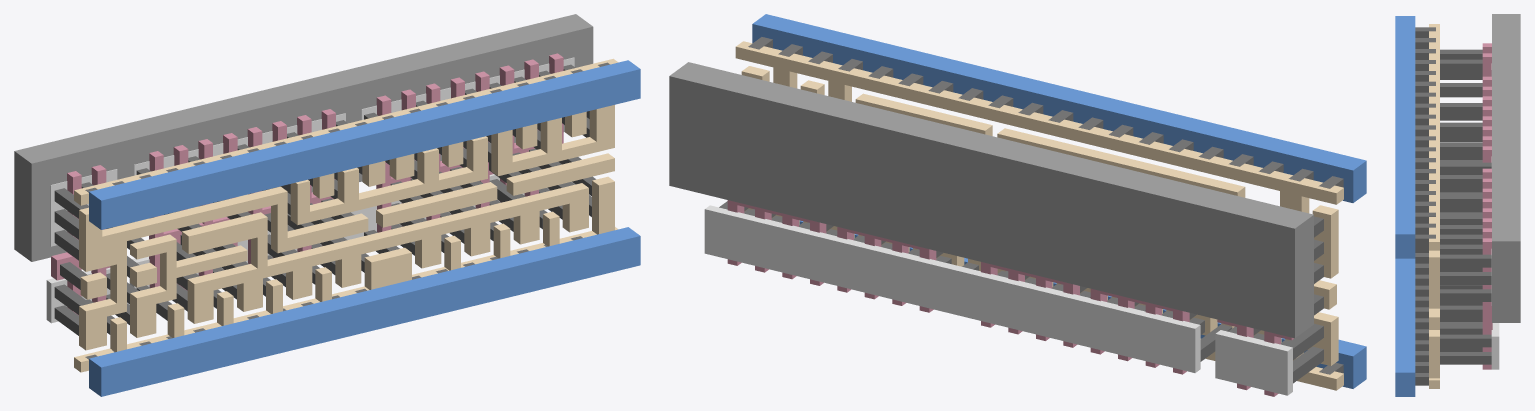
Rendered from sky130_fd_sc_hd__nor4bb_4.gds.gltf.
3 views of the same model, side by side, from view 1: azimuth 30°, elevation 25°; view 2: azimuth 150°, elevation 25°; view 3: azimuth 270°, elevation 25° (orthographic). The views are drawn at different scales.
Visible parts, largest first — view 1: sky130_fd_sc_hd__nor4bb_4_li1, sky130_fd_sc_hd__nor4bb_4_met1, sky130_fd_sc_hd__nor4bb_4_nwell, sky130_fd_sc_hd__nor4bb_4_licon, sky130_fd_sc_hd__nor4bb_4_poly, sky130_fd_sc_hd__nor4bb_4_diff, sky130_fd_sc_hd__nor4bb_4_mcon; view 2: sky130_fd_sc_hd__nor4bb_4_nwell, sky130_fd_sc_hd__nor4bb_4_diff, sky130_fd_sc_hd__nor4bb_4_li1, sky130_fd_sc_hd__nor4bb_4_met1, sky130_fd_sc_hd__nor4bb_4_poly, sky130_fd_sc_hd__nor4bb_4_mcon, sky130_fd_sc_hd__nor4bb_4_licon; view 3: sky130_fd_sc_hd__nor4bb_4_licon, sky130_fd_sc_hd__nor4bb_4_nwell, sky130_fd_sc_hd__nor4bb_4_met1, sky130_fd_sc_hd__nor4bb_4_mcon, sky130_fd_sc_hd__nor4bb_4_li1, sky130_fd_sc_hd__nor4bb_4_poly, sky130_fd_sc_hd__nor4bb_4_diff.
Boxes of the visible parts, x1=… form: sky130_fd_sc_hd__nor4bb_4_li1: x1=74, y1=58, x2=618, y2=372; sky130_fd_sc_hd__nor4bb_4_met1: x1=89, y1=60, x2=640, y2=396; sky130_fd_sc_hd__nor4bb_4_nwell: x1=14, y1=14, x2=593, y2=261; sky130_fd_sc_hd__nor4bb_4_licon: x1=54, y1=64, x2=595, y2=335; sky130_fd_sc_hd__nor4bb_4_poly: x1=51, y1=53, x2=563, y2=315; sky130_fd_sc_hd__nor4bb_4_diff: x1=46, y1=57, x2=574, y2=323; sky130_fd_sc_hd__nor4bb_4_mcon: x1=85, y1=62, x2=609, y2=359; sky130_fd_sc_hd__nor4bb_4_nwell: x1=669, y1=62, x2=1313, y2=338; sky130_fd_sc_hd__nor4bb_4_diff: x1=704, y1=205, x2=1292, y2=395; sky130_fd_sc_hd__nor4bb_4_li1: x1=735, y1=41, x2=1343, y2=390; sky130_fd_sc_hd__nor4bb_4_met1: x1=752, y1=14, x2=1366, y2=388; sky130_fd_sc_hd__nor4bb_4_poly: x1=727, y1=200, x2=1294, y2=396; sky130_fd_sc_hd__nor4bb_4_mcon: x1=748, y1=37, x2=1343, y2=374; sky130_fd_sc_hd__nor4bb_4_licon: x1=719, y1=201, x2=1323, y2=383; sky130_fd_sc_hd__nor4bb_4_licon: x1=1440, y1=49, x2=1491, y2=364; sky130_fd_sc_hd__nor4bb_4_nwell: x1=1492, y1=14, x2=1520, y2=322; sky130_fd_sc_hd__nor4bb_4_met1: x1=1395, y1=16, x2=1415, y2=396; sky130_fd_sc_hd__nor4bb_4_mcon: x1=1415, y1=27, x2=1435, y2=385; sky130_fd_sc_hd__nor4bb_4_li1: x1=1429, y1=24, x2=1439, y2=388; sky130_fd_sc_hd__nor4bb_4_poly: x1=1482, y1=43, x2=1492, y2=369; sky130_fd_sc_hd__nor4bb_4_diff: x1=1491, y1=63, x2=1499, y2=369.
Bounding box in the file's own units: 9.58 × 3.2 × 2.24.
